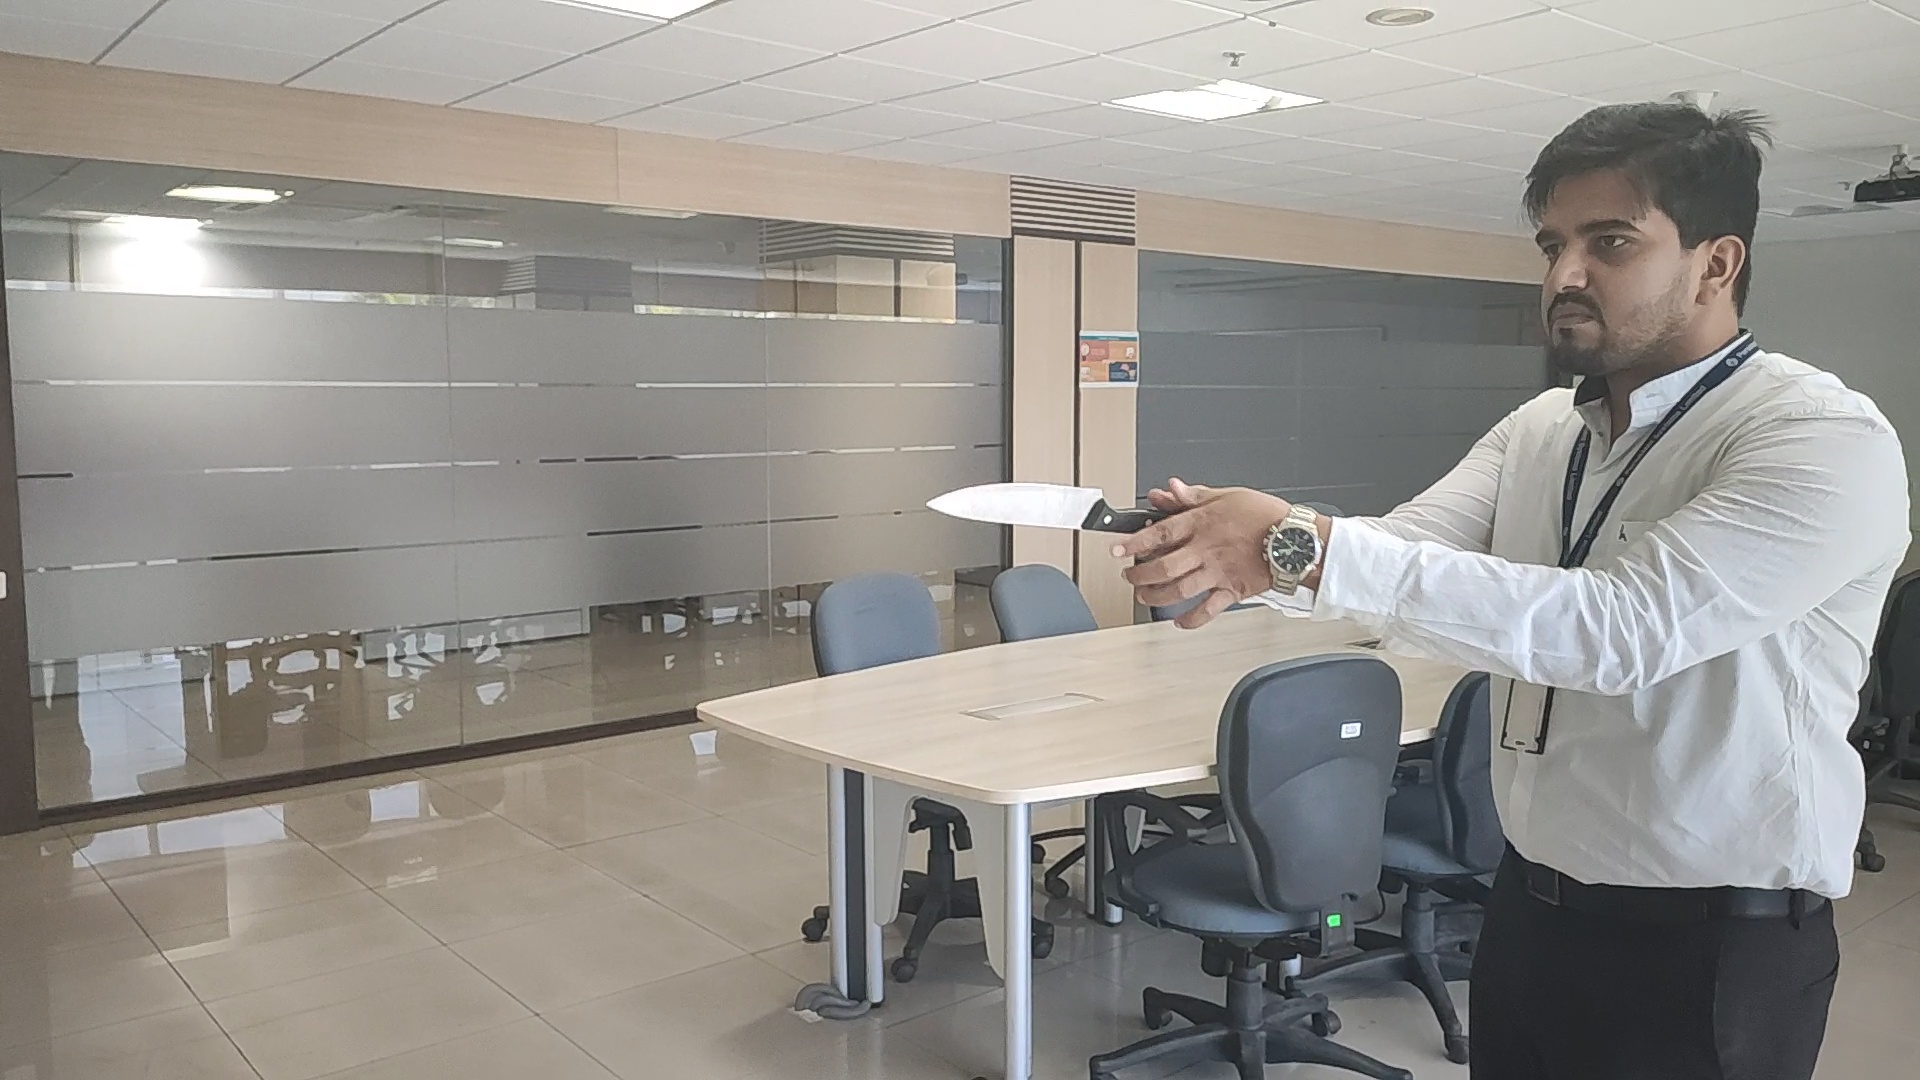knife: (922, 476, 1154, 535)
